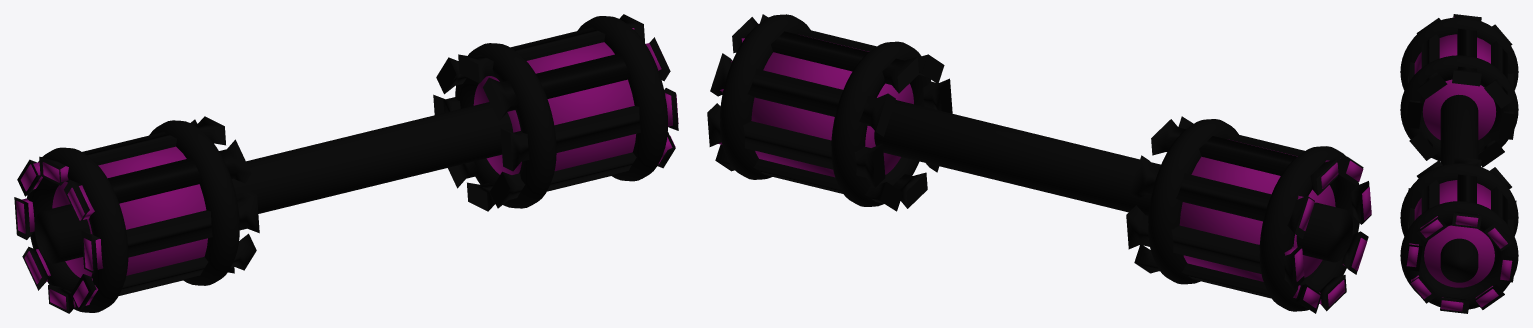
Rendered from enemy_mech_axis.glb.
The picture shows the model from 3 angles, left to right: view 1: azimuth 30°, elevation 25°; view 2: azimuth 150°, elevation 25°; view 3: azimuth 270°, elevation 25°; orthographic projection. The views are drawn at different scales.
Visible parts, largest first — view 1: MainAxis, Torus.001, Torus.019, Cylinder.038, Cylinder.001, Torus.002, Torus.020, Cube.002, Cube.003, Cube.020, Cube.019, Cube.009 (+7 smaller); view 2: MainAxis, Torus.001, Torus.019, Cylinder.038, Torus.002, Torus.020, Cylinder.001, Cube.008, Cube.007, Cube.022, Cube.023, Cube.009 (+8 smaller); view 3: Torus.020, MainAxis, Torus.002, Cylinder.038, Cylinder.001, Torus.001, Torus.019, Cube.021, Cube.009, Cube.020, Cube.022, Cube.002 (+18 smaller).
Part boxes in pixels (<box>): MainAxis: <box>34,102,513,263</box>; Torus.001: <box>27,147,128,312</box>; Torus.019: <box>455,43,556,208</box>; Cylinder.038: <box>473,42,635,174</box>; Cylinder.001: <box>52,146,207,277</box>; Torus.002: <box>149,120,239,285</box>; Torus.020: <box>577,16,667,181</box>; Cube.002: <box>483,37,670,121</box>; Cube.003: <box>500,88,678,171</box>; Cube.020: <box>64,139,251,223</box>; Cube.019: <box>81,190,259,273</box>; Cube.009: <box>458,14,644,83</box>; MainAxis: <box>874,100,1352,262</box>; Torus.001: <box>1259,146,1359,311</box>; Torus.019: <box>831,41,930,206</box>; Cylinder.038: <box>751,35,913,177</box>; Torus.002: <box>1148,119,1238,284</box>; Torus.020: <box>720,14,810,179</box>; Cylinder.001: <box>1179,139,1335,281</box>; Cube.008: <box>710,53,895,136</box>; Cube.007: <box>707,103,885,187</box>; Cube.022: <box>1129,155,1314,238</box>; Cube.023: <box>1126,205,1304,289</box>; Cube.009: <box>732,17,918,93</box>; Torus.020: <box>1400,201,1518,309</box>; MainAxis: <box>1440,94,1478,282</box>; Torus.002: <box>1400,55,1518,161</box>; Cylinder.038: <box>1414,180,1494,287</box>; Cylinder.001: <box>1414,34,1496,139</box>; Torus.001: <box>1400,17,1518,90</box>; Torus.019: <box>1400,163,1518,236</box>; Cube.021: <box>1452,14,1481,86</box>; Cube.009: <box>1452,156,1481,228</box>; Cube.020: <box>1416,18,1447,99</box>; Cube.022: <box>1484,24,1512,108</box>; Cube.002: <box>1416,160,1447,242</box>.
Size of the model in its own units: 10.2 by 2.5 by 2.5.
